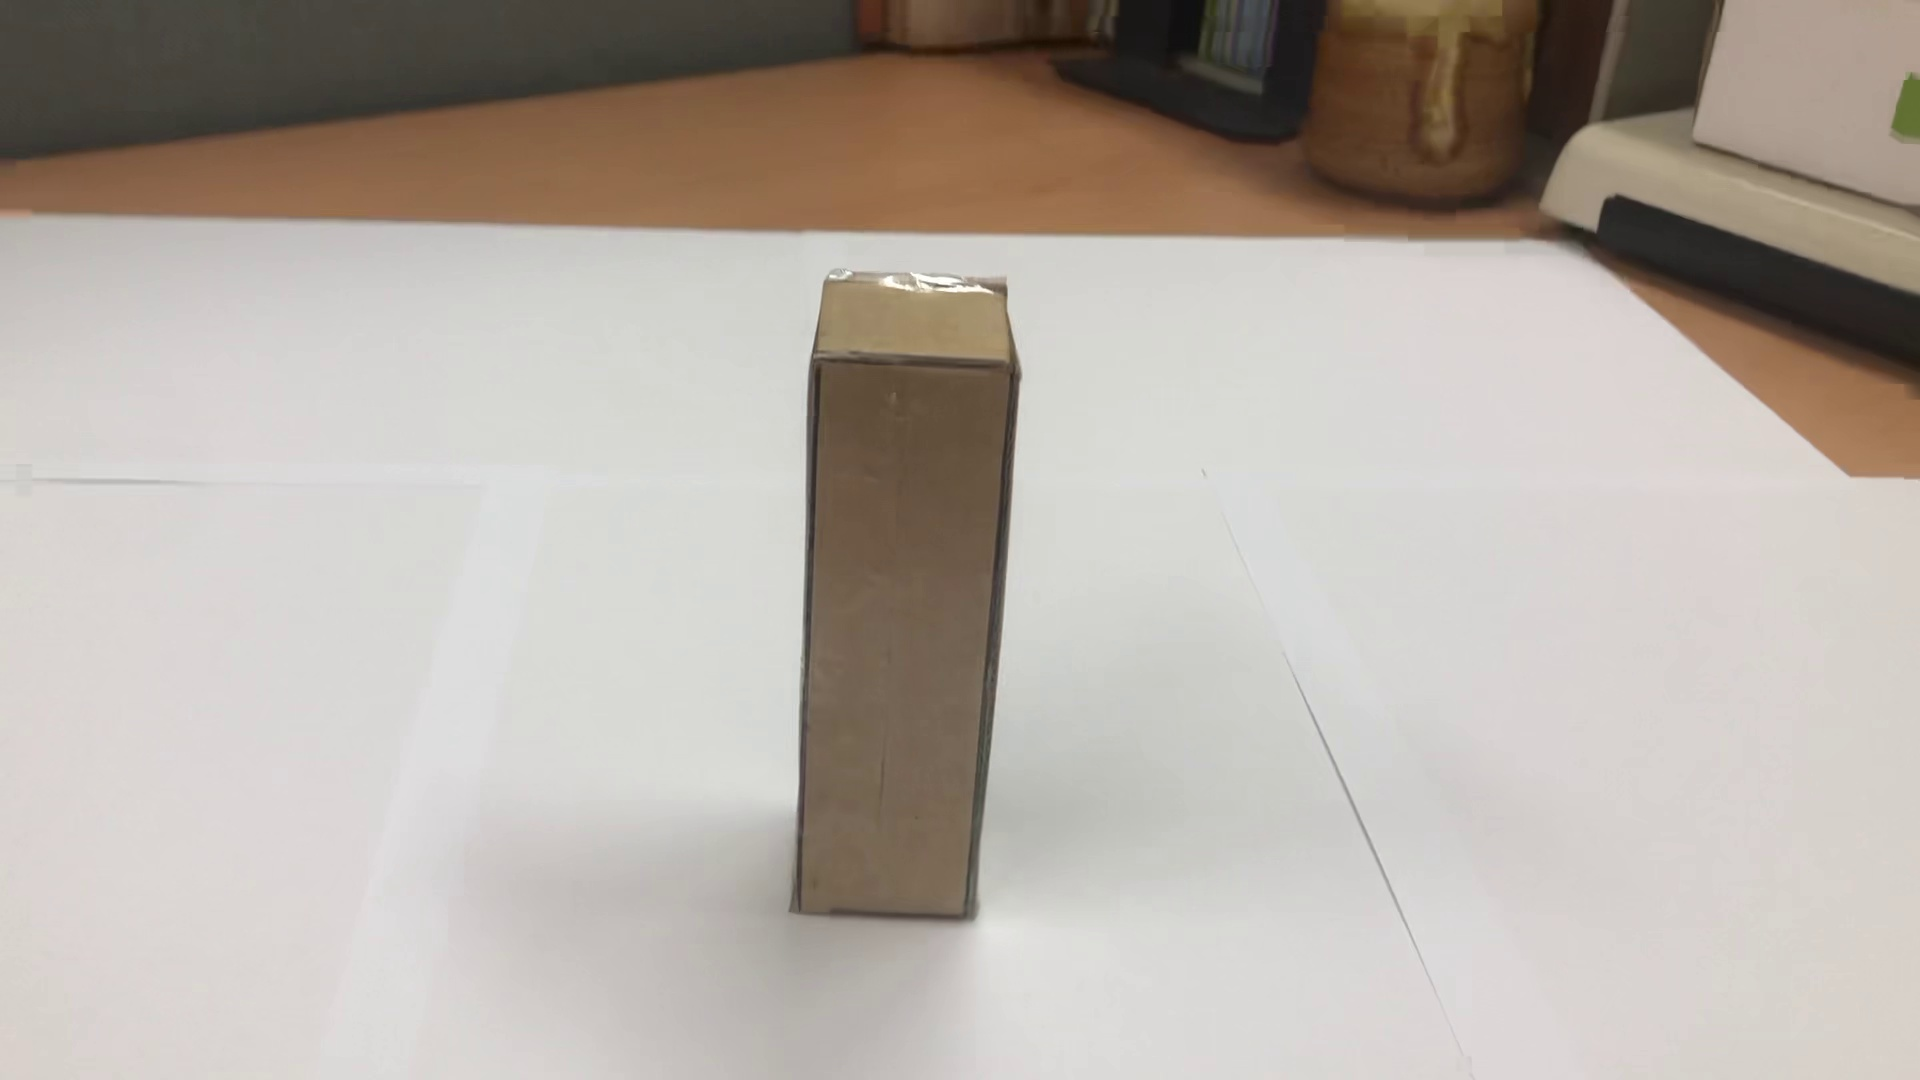box: (735, 235, 1043, 952)
